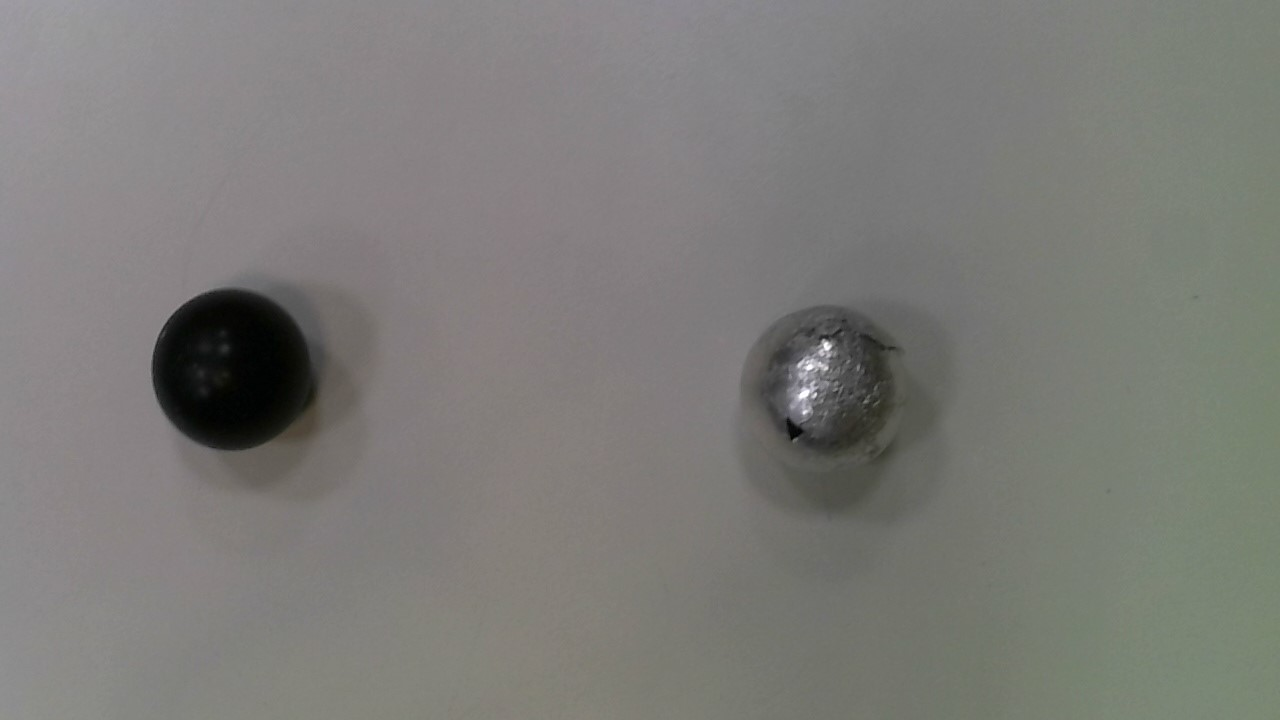black_ball: (149, 284, 327, 455)
silver_ball: (724, 308, 917, 475)
